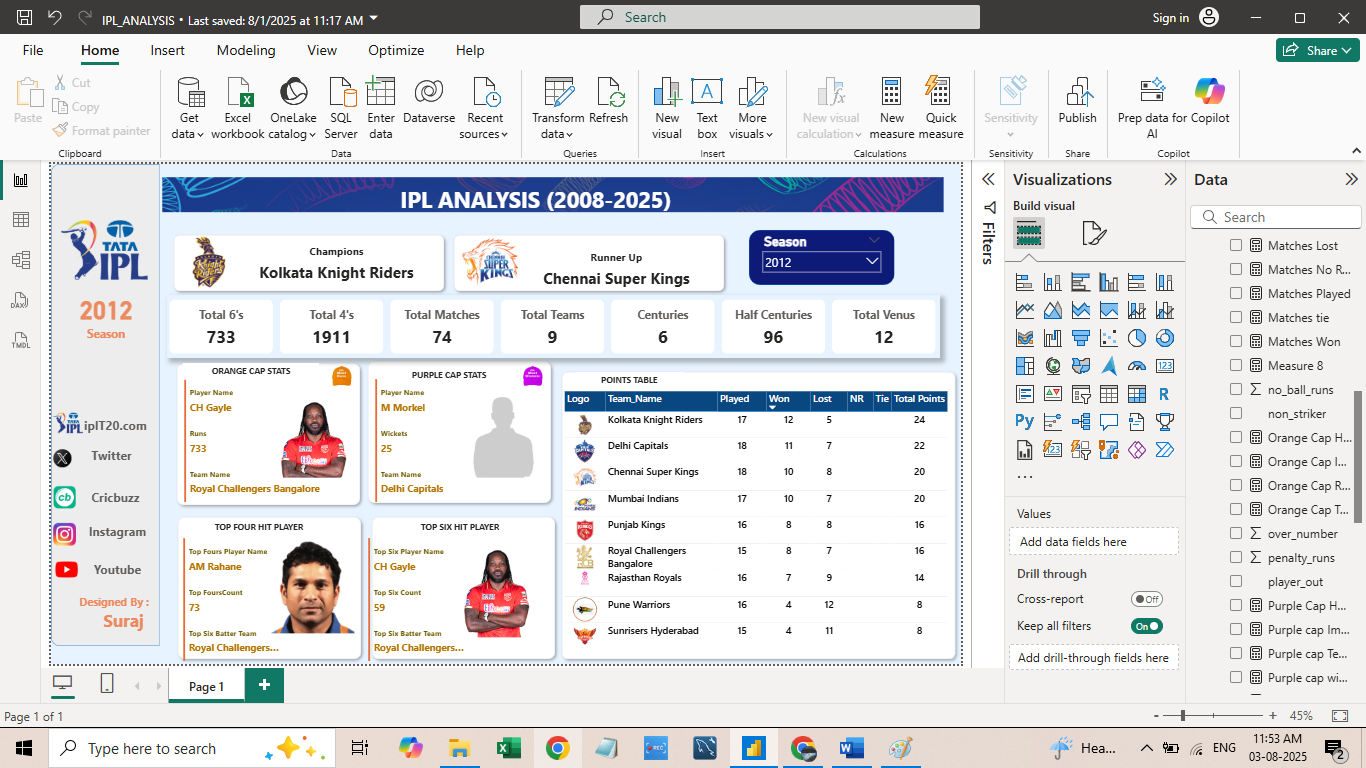

Layout of this report page (visuals, bound fields, positions):
{"tool":"powerbi","page":{"name":"Page 1","canvas":[2000,1100],"ordinal":0},"visuals":[{"type":"shape","box":[1535.4,144.4,320.2,120.7],"z":0},{"type":"shape","box":[1112.9,446.2,887.1,653.5],"z":1000},{"type":"shape","box":[266.2,426.8,424.6,334.4],"z":2000},{"type":"shape","box":[686.4,422.4,424.6,334.4],"z":3000},{"type":"shape","box":[875.6,145.2,616,145.2],"z":4000},{"type":"shape","box":[259.6,145.2,616,145.2],"z":5000},{"type":"image","box":[239.8,22,1729.2,90.2],"z":6000},{"type":"shape","box":[0,0,238.8,1060.4],"z":7000},{"type":"textbox","box":[741.4,39.6,651.2,88],"z":8000},{"type":"slicer","fields":{"Values":["ipl_matches_data.season"]},"box":[1556.4,147,280.8,118.1],"z":9000},{"type":"cardVisual","fields":{"Data":["ipl_matches_data.Season Winner"]},"box":[380.6,158.4,495,118.8],"z":10000},{"type":"cardVisual","fields":{"Data":["ipl_matches_data.Season Winner Logo"]},"box":[259.6,127.6,160.6,154],"z":11000},{"type":"cardVisual","fields":{"Data":["ipl_matches_data.Runner Up"]},"box":[996.6,171.6,495,118.8],"z":12000},{"type":"cardVisual","fields":{"Data":["ball_by_ball_data.Runnerup Logo"]},"box":[875.6,127.6,158.4,145.2],"z":13000},{"type":"cardVisual","fields":{"Data":["ball_by_ball_data.Total 6's","ball_by_ball_data.Total 4's","ball_by_ball_data.Total Matches","ball_by_ball_data.Total Teams","ball_by_ball_data.Centuries","ball_by_ball_data.Half Centuries","ball_by_ball_data.Total Venus"]},"box":[254.6,288.7,1700.8,139.1],"z":14000},{"type":"cardVisual","fields":{"Data":["ball_by_ball_data.Orange Cap Holder","ball_by_ball_data.Orange Cap Runs","ball_by_ball_data.Orange Cap Team Name"]},"box":[288.2,468.6,341,281.6],"z":15000},{"type":"textbox","box":[290.4,437.8,299.2,37.4],"z":16000},{"type":"cardVisual","fields":{"Data":["ball_by_ball_data.Orange Cap Image"]},"box":[457.6,495,250.8,200.2],"z":17000},{"type":"image","box":[589.6,437.8,101.2,57.2],"z":18000},{"type":"shape","box":[268.4,765.6,424.6,334.4],"z":19000},{"type":"shape","box":[695.2,765.6,424.6,334.4],"z":20000},{"type":"cardVisual","fields":{"Data":["ball_by_ball_data.Purple Cap Holder","ball_by_ball_data.Purple cap wicket","ball_by_ball_data.Purple cap Team"]},"box":[708.4,468.6,341,281.6],"z":21000},{"type":"textbox","box":[726,446.6,299.2,37.4],"z":22000},{"type":"cardVisual","fields":{"Data":["ball_by_ball_data.Purple cap Image"]},"box":[871.2,484,250.8,211.2],"z":23000},{"type":"image","box":[1009.8,437.8,101.2,57.2],"z":24000},{"type":"cardVisual","fields":{"Data":["ball_by_ball_data.Top Fours Player Name","ball_by_ball_data.Top FoursCount","ball_by_ball_data.Top Fours Batter Team"]},"box":[286,818.4,244.2,281.6],"z":25000},{"type":"textbox","box":[308,781,299.2,37.4],"z":26000},{"type":"cardVisual","fields":{"Data":["ball_by_ball_data.Top Fours Player Image"]},"box":[442.2,809.6,250.8,246.4],"z":27000},{"type":"cardVisual","fields":{"Data":["ball_by_ball_data.Top Six Player Name","ball_by_ball_data.Top Six Count","ball_by_ball_data.Top Six Batter Team"]},"box":[693,818.4,244.2,281.6],"z":28000},{"type":"textbox","box":[750.2,781,299.2,37.4],"z":29000},{"type":"cardVisual","fields":{"Data":["ball_by_ball_data.Top Six Player Image"]},"box":[860.2,818.4,250.8,246.4],"z":30000},{"type":"tableEx","fields":{"Values":["teams_data.image_url","teams_data.team_name","ball_by_ball_data.Matches Played","ball_by_ball_data.Matches Won","ball_by_ball_data.Matches Lost","ball_by_ball_data.Matches No Result","ball_by_ball_data.Matches tie","ball_by_ball_data.Total Points"]},"box":[1123.4,496.1,876.6,593.2],"z":31000},{"type":"textbox","box":[1152.2,456.7,238.8,39.4],"z":32000},{"type":"image","box":[0,519.7,75,100],"z":33000},{"type":"card","fields":{"Values":["ball_by_ball_data.Season"]},"box":[47.2,265.1,149.6,136.5],"z":34000},{"type":"actionButton","box":[47.2,530.2,191.6,89.2],"z":35000},{"type":"image","box":[18.4,39.4,200,299.2],"z":36000},{"type":"image","box":[0,608.9,50,76.1],"z":37000},{"type":"actionButton","box":[36.7,595.8,191.6,89.2],"z":38000},{"type":"image","box":[0,695.5,60,75],"z":39000},{"type":"actionButton","box":[47.2,687.7,191.6,89.2],"z":40000},{"type":"image","box":[0,776.9,60.4,76.1],"z":41000},{"type":"actionButton","box":[49.9,763.8,191.6,89.2],"z":42000},{"type":"image","box":[5.2,853,60.4,76.1],"z":43000},{"type":"actionButton","box":[49.9,847.8,191.6,89.2],"z":44000},{"type":"textbox","box":[57.7,942.3,168,126],"z":45000}]}

Visuals, with their boxes on the page's 2000x1100 design canvas (x1, y1, x2, y2). These are canvas units, not pixel positions in the 1366x768 screenshot, which may show the page scaled, cropped or inside an application window:
shape: <region>1535, 144, 1856, 265</region>
shape: <region>1113, 446, 2000, 1100</region>
shape: <region>266, 427, 691, 761</region>
shape: <region>686, 422, 1111, 757</region>
shape: <region>876, 145, 1492, 290</region>
shape: <region>260, 145, 876, 290</region>
image: <region>240, 22, 1969, 112</region>
shape: <region>0, 0, 239, 1060</region>
textbox: <region>741, 40, 1393, 128</region>
slicer - ipl_matches_data.season: <region>1556, 147, 1837, 265</region>
cardVisual - ipl_matches_data.Season Winner: <region>381, 158, 876, 277</region>
cardVisual - ipl_matches_data.Season Winner Logo: <region>260, 128, 420, 282</region>
cardVisual - ipl_matches_data.Runner Up: <region>997, 172, 1492, 290</region>
cardVisual - ball_by_ball_data.Runnerup Logo: <region>876, 128, 1034, 273</region>
cardVisual - ball_by_ball_data.Total 6's x ball_by_ball_data.Total 4's: <region>255, 289, 1955, 428</region>
cardVisual - ball_by_ball_data.Orange Cap Holder x ball_by_ball_data.Orange Cap Runs: <region>288, 469, 629, 750</region>
textbox: <region>290, 438, 590, 475</region>
cardVisual - ball_by_ball_data.Orange Cap Image: <region>458, 495, 708, 695</region>
image: <region>590, 438, 691, 495</region>
shape: <region>268, 766, 693, 1100</region>
shape: <region>695, 766, 1120, 1100</region>
cardVisual - ball_by_ball_data.Purple Cap Holder x ball_by_ball_data.Purple cap wicket: <region>708, 469, 1049, 750</region>
textbox: <region>726, 447, 1025, 484</region>
cardVisual - ball_by_ball_data.Purple cap Image: <region>871, 484, 1122, 695</region>
image: <region>1010, 438, 1111, 495</region>
cardVisual - ball_by_ball_data.Top Fours Player Name x ball_by_ball_data.Top FoursCount: <region>286, 818, 530, 1100</region>
textbox: <region>308, 781, 607, 818</region>
cardVisual - ball_by_ball_data.Top Fours Player Image: <region>442, 810, 693, 1056</region>
cardVisual - ball_by_ball_data.Top Six Player Name x ball_by_ball_data.Top Six Count: <region>693, 818, 937, 1100</region>
textbox: <region>750, 781, 1049, 818</region>
cardVisual - ball_by_ball_data.Top Six Player Image: <region>860, 818, 1111, 1065</region>
tableEx - teams_data.image_url x teams_data.team_name: <region>1123, 496, 2000, 1089</region>
textbox: <region>1152, 457, 1391, 496</region>
image: <region>0, 520, 75, 620</region>
card - ball_by_ball_data.Season: <region>47, 265, 197, 402</region>
actionButton: <region>47, 530, 239, 619</region>
image: <region>18, 39, 218, 339</region>
image: <region>0, 609, 50, 685</region>
actionButton: <region>37, 596, 228, 685</region>
image: <region>0, 696, 60, 770</region>
actionButton: <region>47, 688, 239, 777</region>
image: <region>0, 777, 60, 853</region>
actionButton: <region>50, 764, 242, 853</region>
image: <region>5, 853, 66, 929</region>
actionButton: <region>50, 848, 242, 937</region>
textbox: <region>58, 942, 226, 1068</region>
